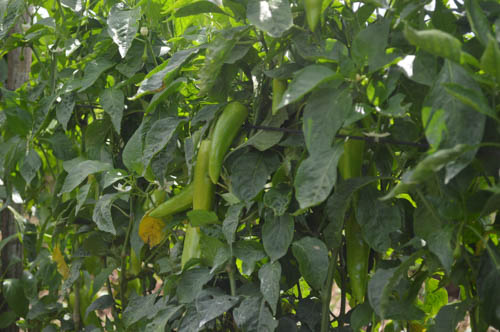ChiliPepper: (208, 102, 247, 187), (345, 216, 375, 308), (193, 140, 216, 229), (145, 187, 191, 222), (339, 135, 365, 190), (177, 230, 205, 268)
